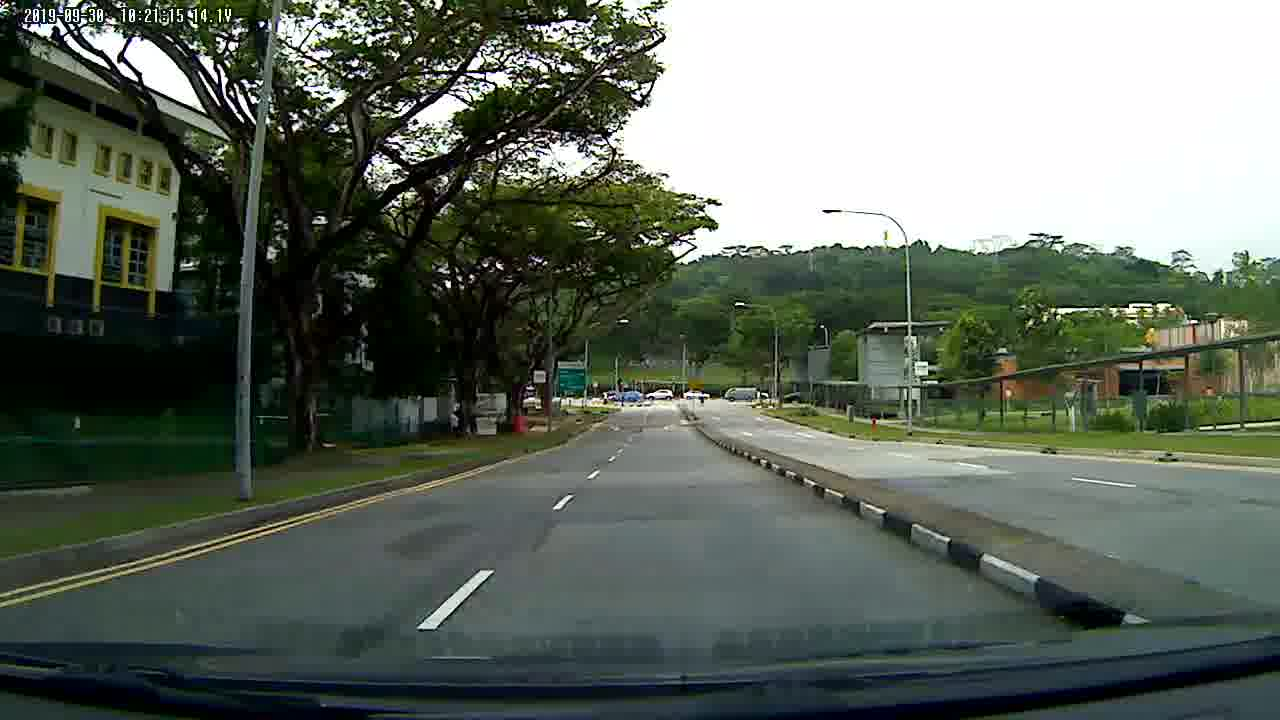car: (612, 390, 646, 405), (647, 387, 676, 404), (682, 387, 713, 401)
